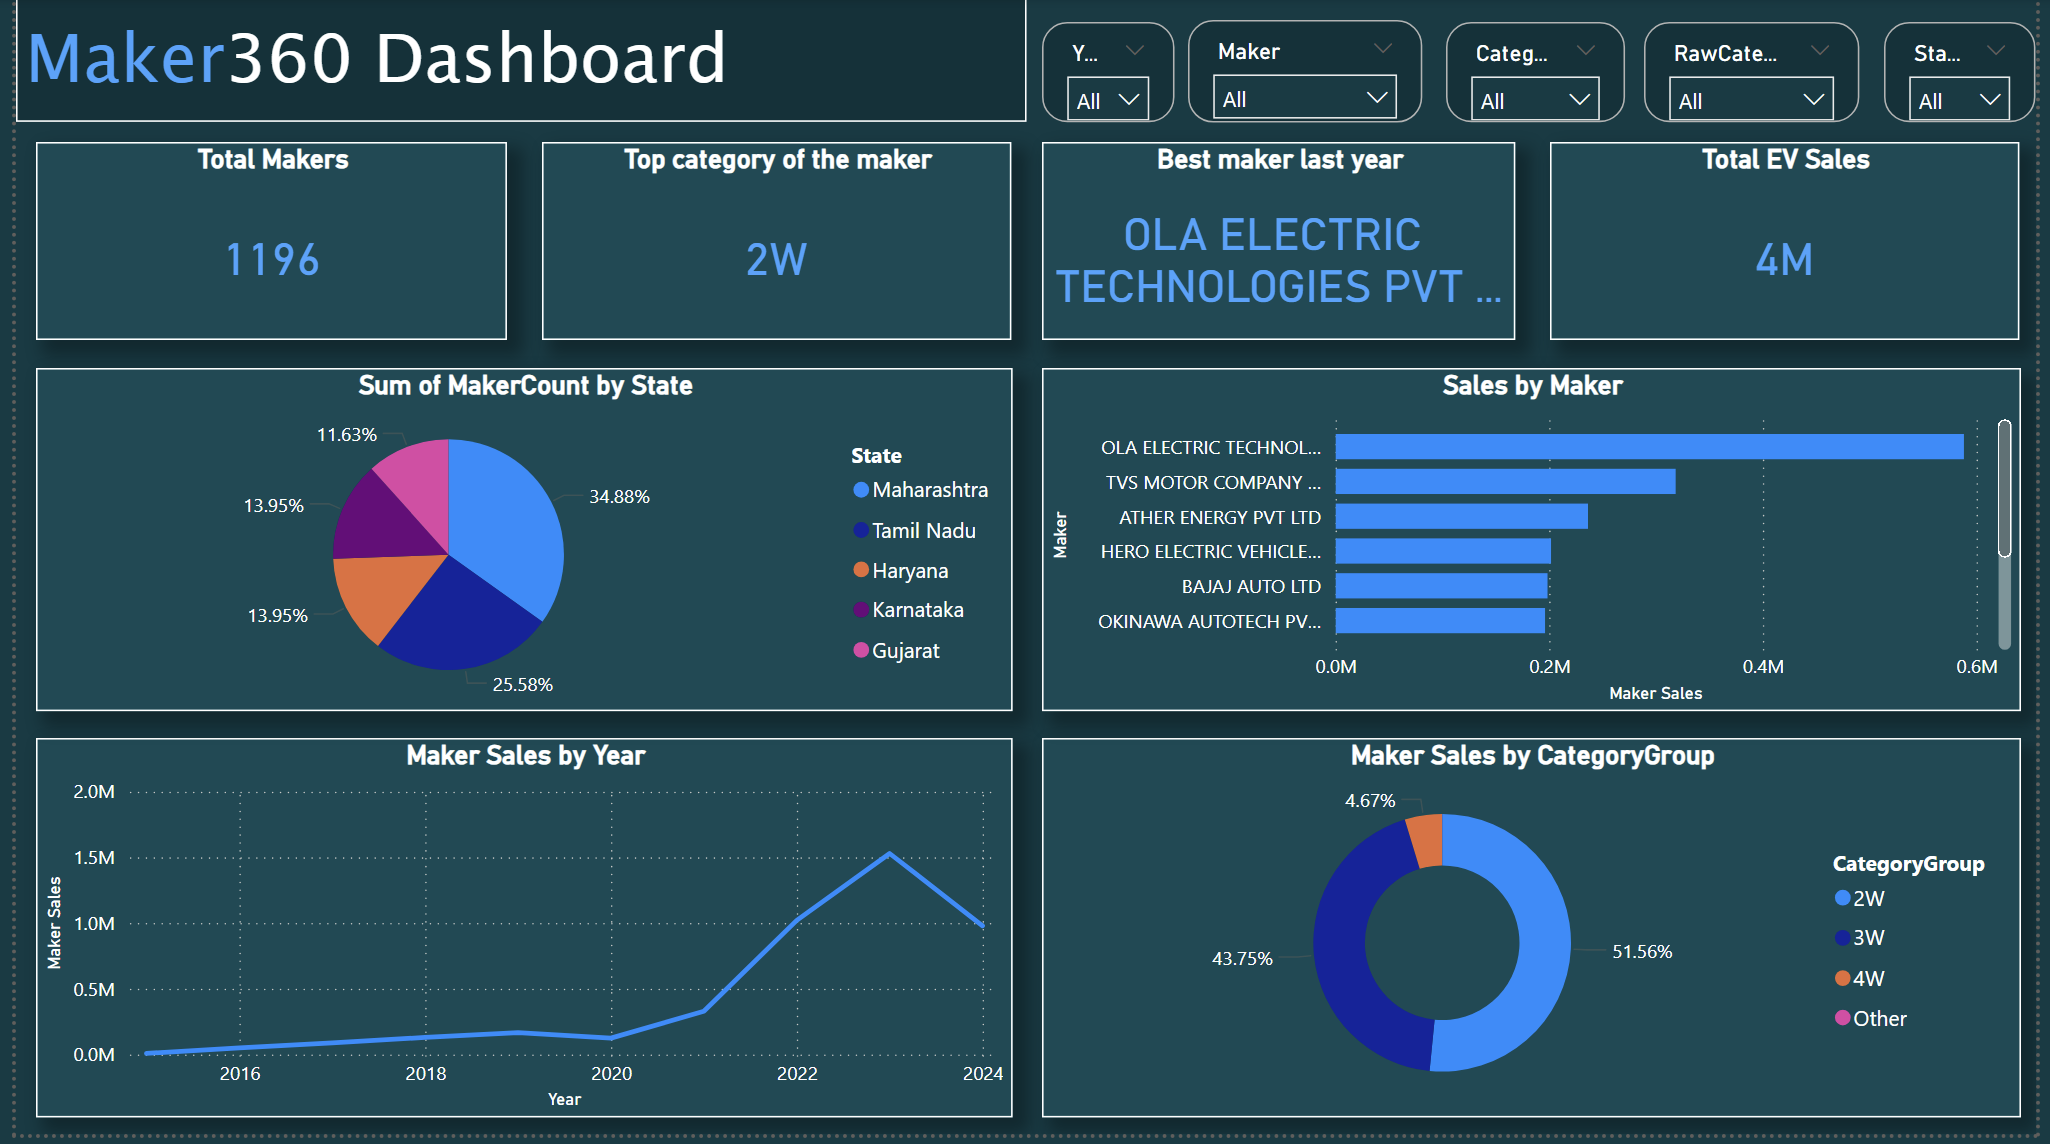

The page's visual inventory and layout, read from the dashboard file:
{"tool":"powerbi","page":{"name":"Page 2","canvas":[1280,720],"ordinal":1},"visuals":[{"type":"textbox","box":[0,0,640.5,78.5],"z":0},{"type":"card","title":"Total Makers","fields":{"Values":["CategoryMap.Total Active Manufacturers"]},"box":[12.2,91.9,298.6,125.7],"z":1000},{"type":"card","title":"Best maker last year","fields":{"Values":["CategoryMap.Top Maker"]},"box":[650,91.9,300,125.7],"z":2000},{"type":"card","title":"Top category of the maker","fields":{"Values":["CategoryMap.Top Category for Maker"]},"box":[333.8,91.9,297.3,125.7],"z":3000},{"type":"slicer","fields":{"Values":["Fact_MakerSales.Maker"]},"box":[743.2,13.5,148.6,64.9],"z":4000},{"type":"card","title":"Total EV Sales","fields":{"Values":["Sum(Fact_MakerSales.Sales)"]},"box":[971.6,91.9,297.3,125.7],"z":5000},{"type":"slicer","fields":{"Values":["Fact_Category.Year"]},"box":[650,14.9,83.8,63.5],"z":6000},{"type":"slicer","fields":{"Values":["CategoryMap.CategoryGroup"]},"box":[906.8,14.9,113.5,63.5],"z":7000},{"type":"slicer","fields":{"Values":["Fact_Category.RawCategory"]},"box":[1032.4,14.9,136.5,63.5],"z":8000},{"type":"slicer","fields":{"Values":["Dim_MakerLocation.State"]},"box":[1183.8,14.9,95.9,63.5],"z":9000},{"type":"lineChart","fields":{"Category":["Fact_MakerSales.Year"],"Y":["Fact_MakerSales.Maker Sales"]},"box":[12.2,468.9,618.9,240.5],"z":10000},{"type":"donutChart","fields":{"Category":["CategoryMap.CategoryGroup"],"Y":["Fact_MakerSales.Maker Sales"]},"box":[650,468.9,620.3,240.5],"z":11000},{"type":"clusteredBarChart","title":"Sales by Maker","fields":{"Category":["Fact_MakerSales.Maker"],"Y":["Fact_MakerSales.Maker Sales"]},"box":[650,235.1,620.3,217.6],"z":12000},{"type":"pieChart","fields":{"Category":["Dim_State.State"],"Y":["Sum(Dim_State.MakerCount)"]},"box":[12.2,235.1,618.9,217.6],"z":13000}]}

Visuals, with their boxes in screenshot pixels (x1, y1, x2, y2), scaled from the page's 1280x720 canvas onto the 2050x1144 screenshot:
textbox: box=[0, 0, 1026, 125]
"Total Makers" card: box=[20, 146, 498, 346]
"Best maker last year" card: box=[1041, 146, 1521, 346]
"Top category of the maker" card: box=[535, 146, 1011, 346]
slicer - Fact_MakerSales.Maker: box=[1190, 21, 1428, 125]
"Total EV Sales" card: box=[1556, 146, 2032, 346]
slicer - Fact_Category.Year: box=[1041, 24, 1175, 125]
slicer - CategoryMap.CategoryGroup: box=[1452, 24, 1634, 125]
slicer - Fact_Category.RawCategory: box=[1653, 24, 1872, 125]
slicer - Dim_MakerLocation.State: box=[1896, 24, 2049, 125]
lineChart - Fact_MakerSales.Year x Fact_MakerSales.Maker Sales: box=[20, 745, 1011, 1127]
donutChart - CategoryMap.CategoryGroup x Fact_MakerSales.Maker Sales: box=[1041, 745, 2034, 1127]
"Sales by Maker" clusteredBarChart: box=[1041, 374, 2034, 719]
pieChart - Dim_State.State x Sum(Dim_State.MakerCount): box=[20, 374, 1011, 719]
